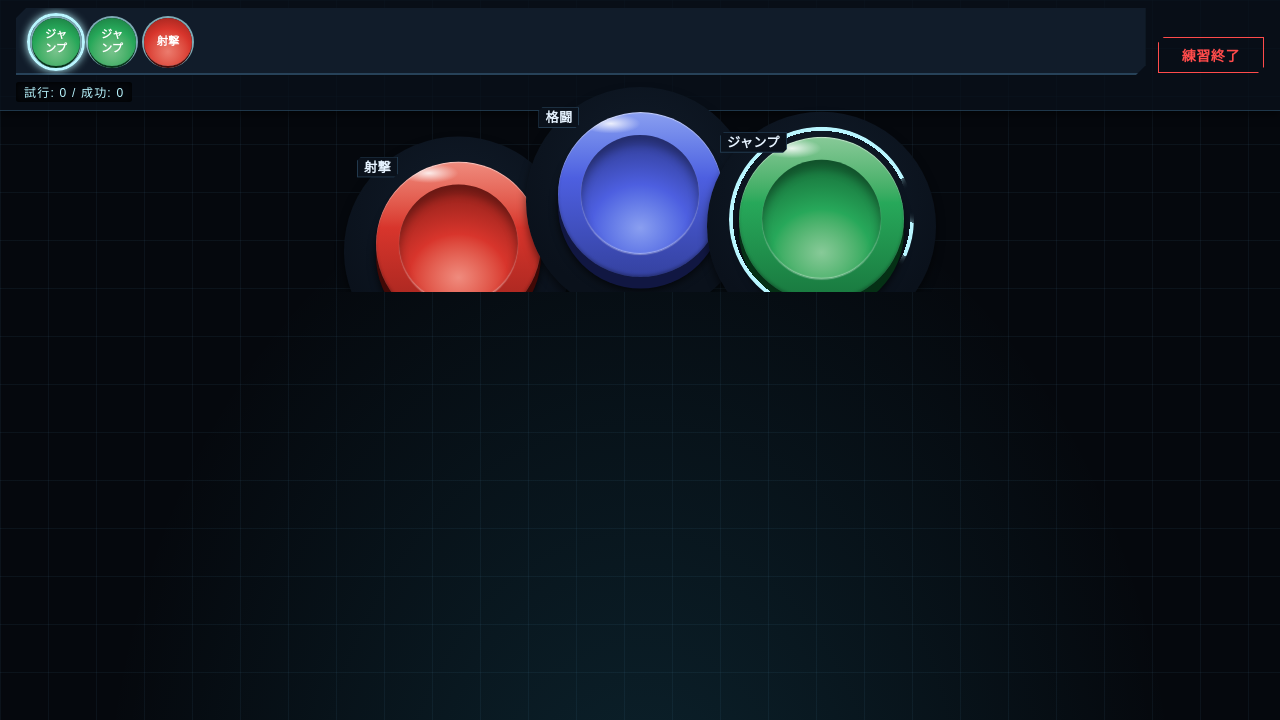
ジャンプ→ジャンプ→射撃コマンド練習 E2E テスト › ジャンプ→ジャンプ→射撃の順で入力すると成功判定される
Press the mouse on the button "ジャンプ" at coordinates (822, 219), box [739,137,904,302]
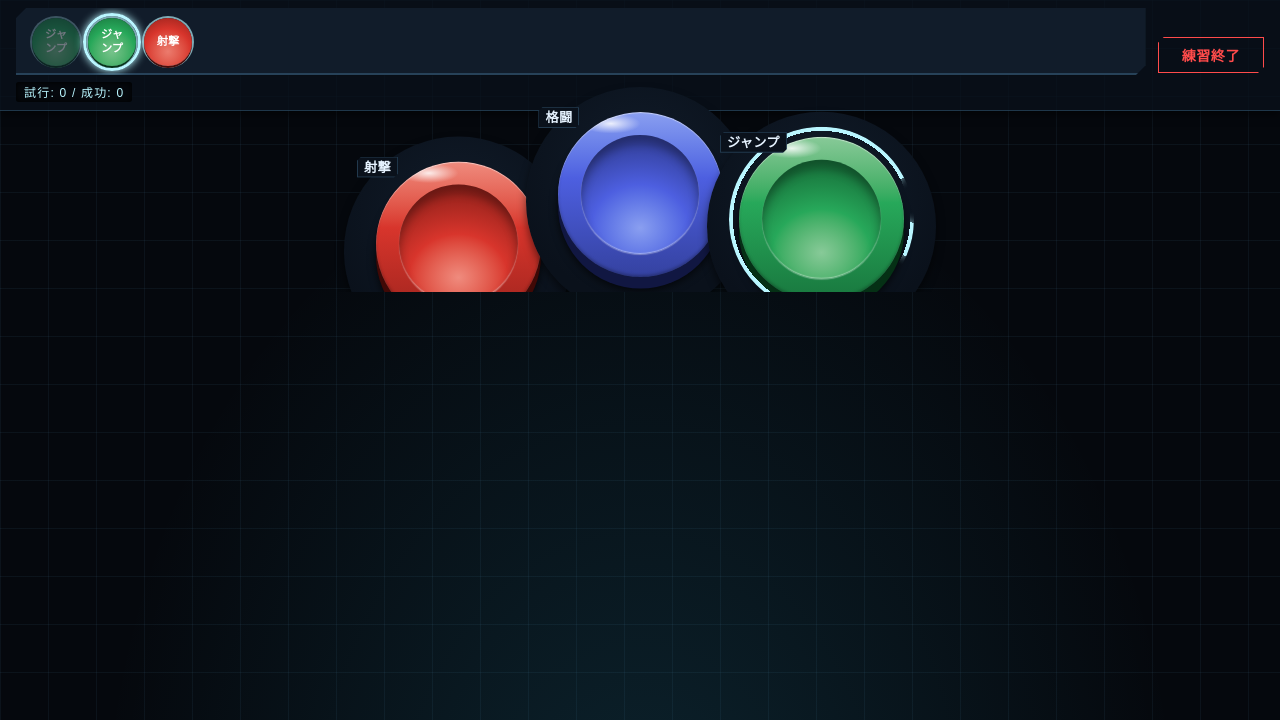
Press the mouse on the button "ジャンプ" at coordinates (822, 219), box [739,137,904,302]
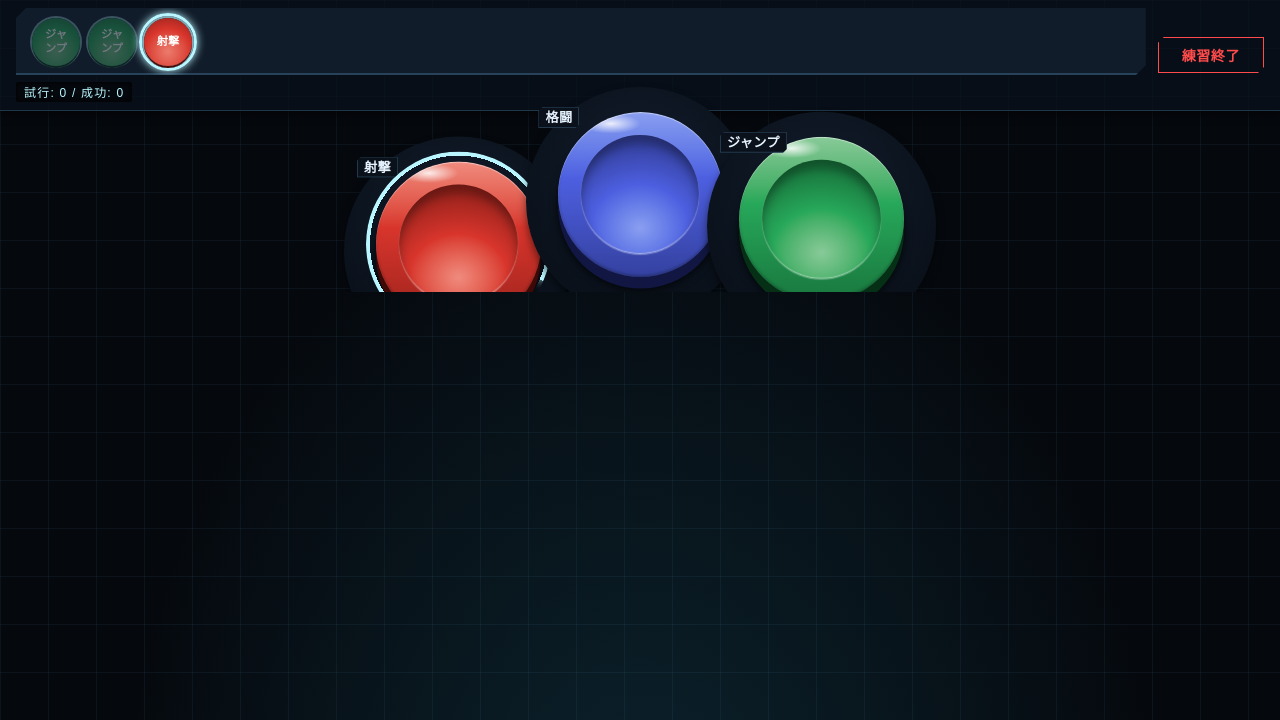
Press the mouse on the button "射撃" at coordinates (458, 244), box [376,162,541,327]
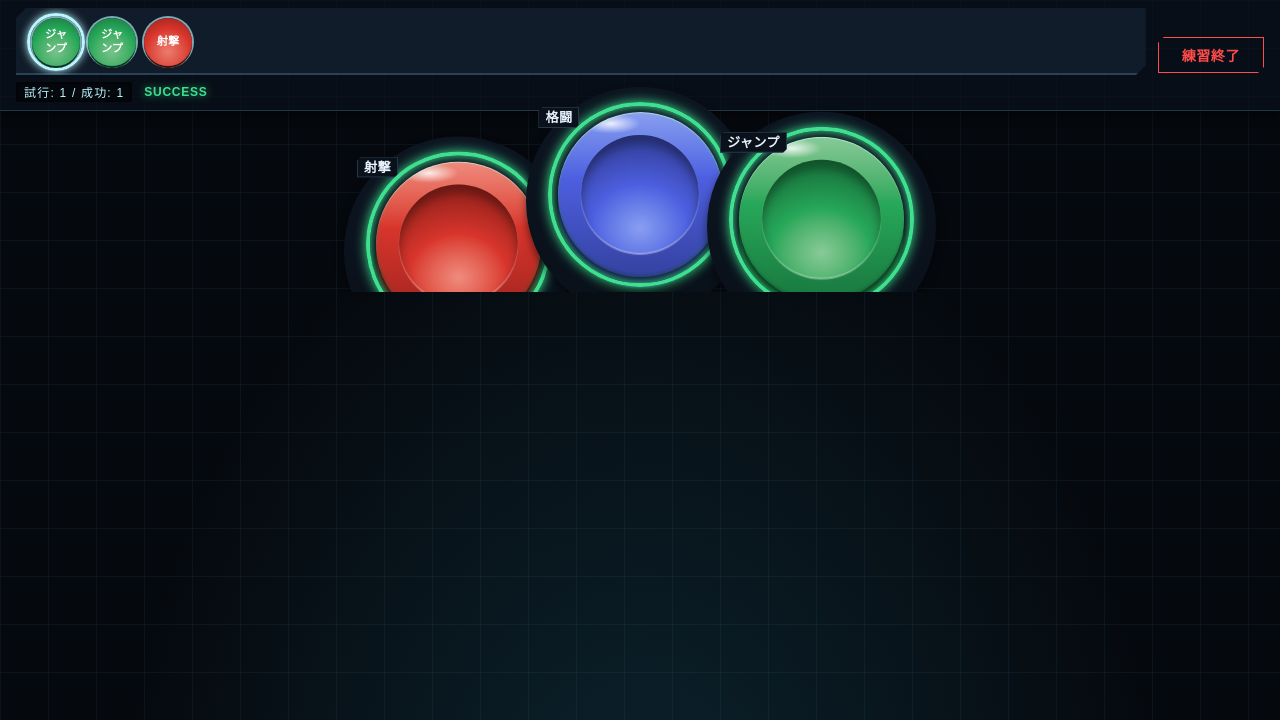
expect the text "SUCCESS" is shown: met, box [144,85,207,99]
